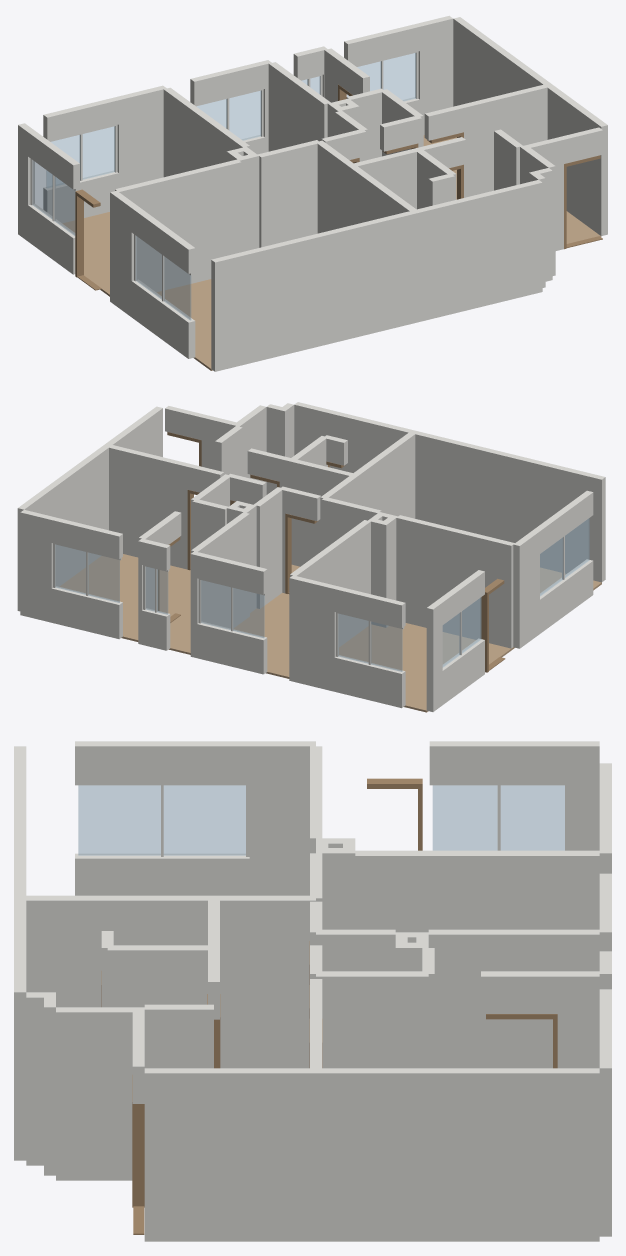
Rendered from high_quality_architectural_6053.glb.
3 views of the same model, one above another, from view 1: azimuth 30°, elevation 25°; view 2: azimuth 150°, elevation 25°; view 3: azimuth 270°, elevation 25° (orthographic). The views are drawn at different scales.
Visible parts, largest first — view 1: Wall_12_solid, Wall_32_solid, Wall_1_solid, Wall_8_solid, Wall_18_solid, Wall_19_solid, Wall_24_solid, Wall_4_solid, Wall_3_solid, Wall_27_solid, Wall_23_solid, Wall_6_sill (+42 smaller); view 2: Wall_12_solid, Wall_1_solid, Wall_18_solid, Wall_24_solid, Wall_3_solid, Floor_0_kitchen, Floor_3_bedroom, Wall_32_solid, Wall_4_solid, Wall_27_solid, Wall_23_solid, Wall_6_solid (+52 smaller); view 3: Wall_24_solid, Wall_19_solid, Wall_4_solid, Wall_9_solid, Wall_27_solid, Wall_35_solid, Window_9, Wall_21_solid, Wall_6_solid, Window_1, Wall_11_solid, Wall_6_lintel (+27 smaller).
Boxes of the visible parts, <box> form: Wall_12_solid: <box>211,210,417,371</box>; Wall_32_solid: <box>413,179,542,322</box>; Wall_1_solid: <box>115,159,241,292</box>; Wall_8_solid: <box>257,140,320,247</box>; Wall_18_solid: <box>460,84,547,197</box>; Wall_19_solid: <box>546,84,607,236</box>; Wall_24_solid: <box>453,17,551,106</box>; Wall_4_solid: <box>163,87,249,177</box>; Wall_3_solid: <box>115,85,166,187</box>; Wall_27_solid: <box>268,62,330,151</box>; Wall_23_solid: <box>416,15,453,134</box>; Wall_6_sill: <box>131,279,195,358</box>; Wall_12_solid: <box>412,431,605,582</box>; Wall_1_solid: <box>396,515,514,648</box>; Wall_18_solid: <box>109,445,190,569</box>; Wall_24_solid: <box>17,445,110,611</box>; Wall_3_solid: <box>289,575,337,691</box>; Floor_0_kitchen: <box>339,623,513,712</box>; Floor_3_bedroom: <box>59,554,190,641</box>; Wall_32_solid: <box>294,402,415,472</box>; Wall_4_solid: <box>290,520,370,646</box>; Wall_27_solid: <box>191,512,249,628</box>; Wall_23_solid: <box>20,509,54,622</box>; Wall_6_solid: <box>513,529,539,648</box>; Wall_24_solid: <box>316,1068,599,1241</box>; Wall_19_solid: <box>144,1068,315,1241</box>; Wall_4_solid: <box>355,850,599,932</box>; Wall_9_solid: <box>214,895,315,1068</box>; Wall_27_solid: <box>428,929,599,1068</box>; Wall_35_solid: <box>56,1007,144,1180</box>; Window_9: <box>78,785,245,855</box>; Wall_21_solid: <box>316,971,428,1068</box>; Wall_6_solid: <box>249,741,315,895</box>; Window_1: <box>432,785,564,850</box>; Wall_11_solid: <box>26,895,107,1007</box>; Wall_6_lintel: <box>75,741,249,783</box>.
Bounding box in the file's own units: 11.43 × 2.75 × 8.69.
